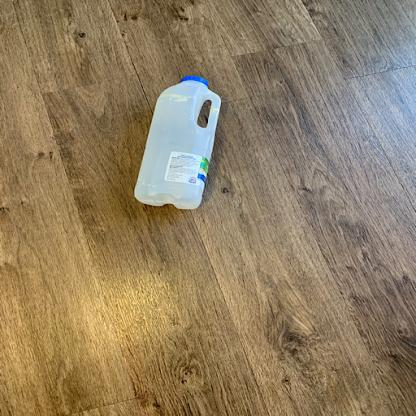trash: (128, 74, 224, 215)
